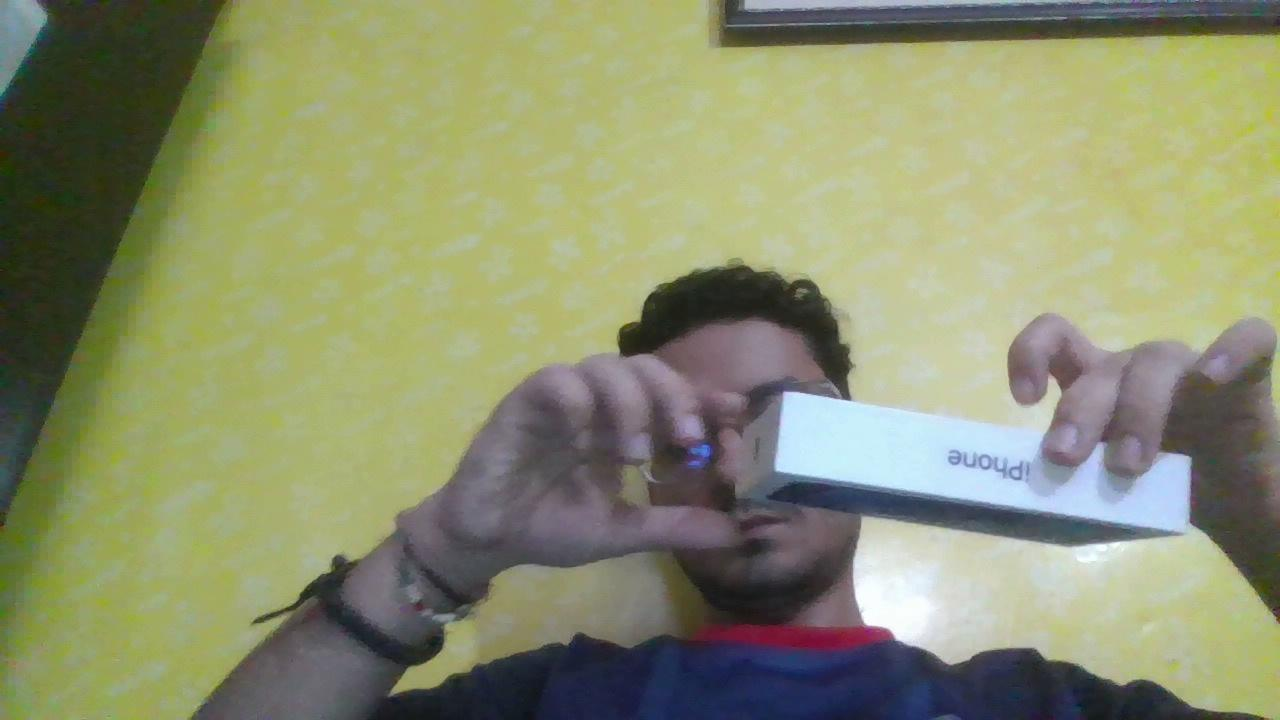Phone: (694, 395, 1218, 560)
